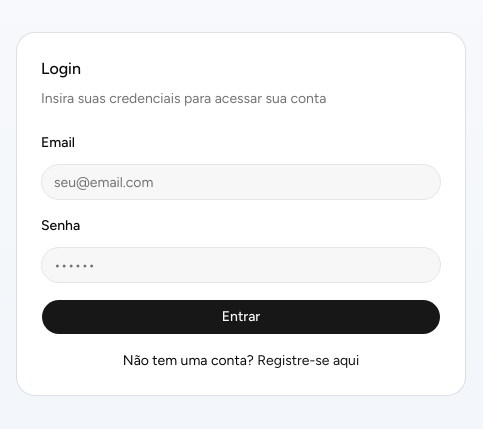
Scenario: LoginPage › shows validation error for password shorter than 8 characters
Step 1. Type "test@example.com" into the field with id "form-rhf-input-email" → (241, 182), box [41,164,441,200]
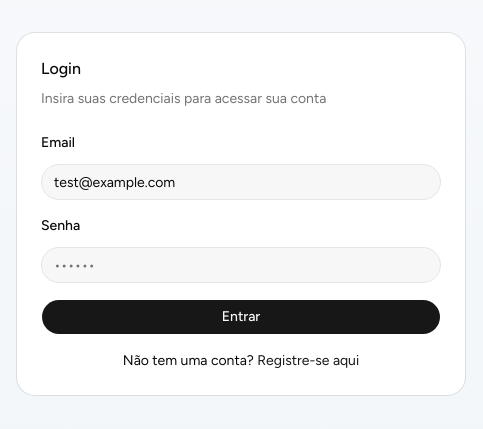
Step 2. Type "short" into the password field with id "form-rhf-input-password" → (241, 265), box [41,247,441,283]
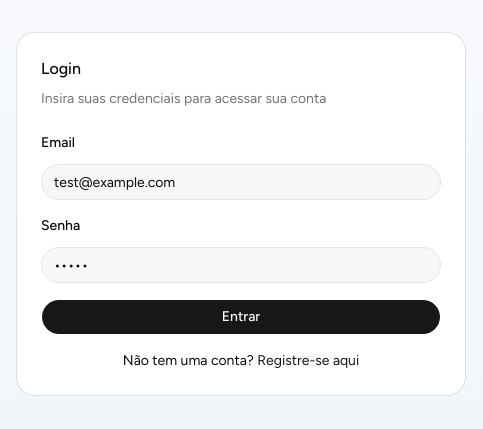
Step 3. Click the button "Entrar" → click(241, 317), box [41,299,441,335]
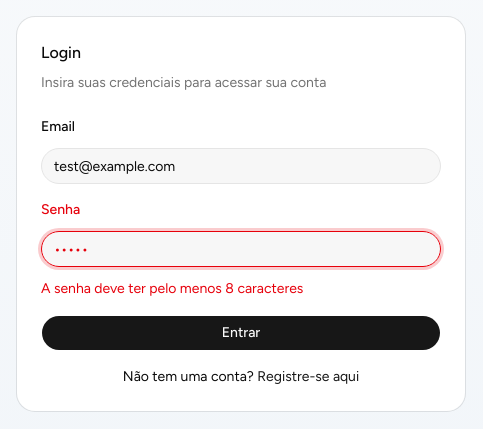
Check: the text "A senha deve ter pelo menos 8 caracteres" is shown, box [41,280,303,297]
